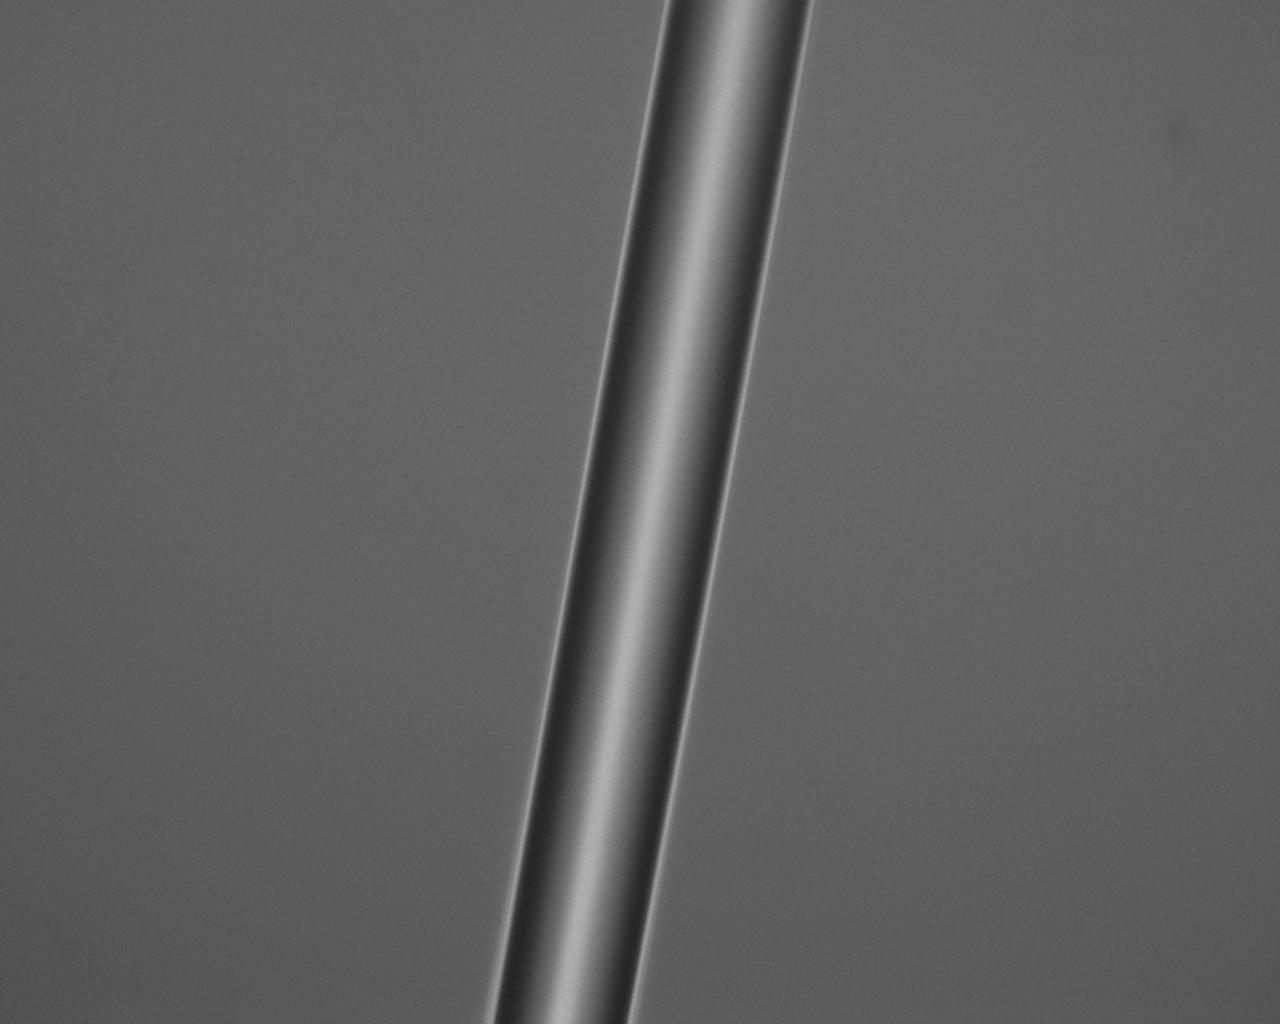fiber: (486, 501, 1280, 738), (338, 256, 486, 1024), (486, 0, 1251, 20)
